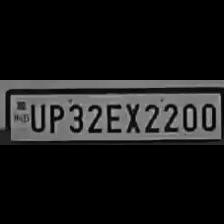0: (179, 99, 197, 130), (198, 99, 216, 130)
2: (84, 100, 104, 132), (140, 100, 160, 132), (160, 99, 178, 131)
3: (64, 100, 84, 132)
E: (102, 100, 122, 132)
P: (46, 100, 64, 132)
U: (27, 99, 46, 131)
X: (123, 100, 141, 132)
